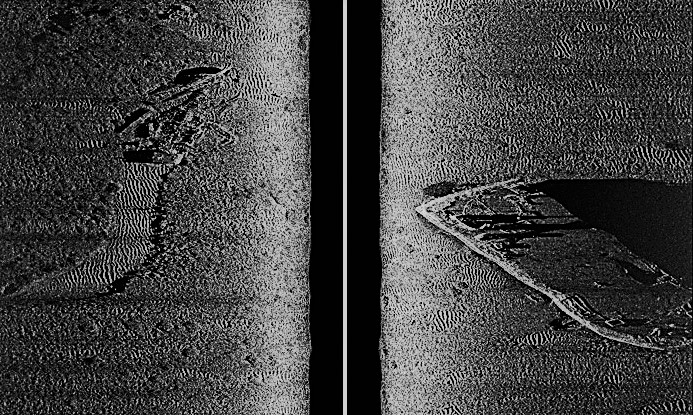ship: (413, 175, 693, 353)
